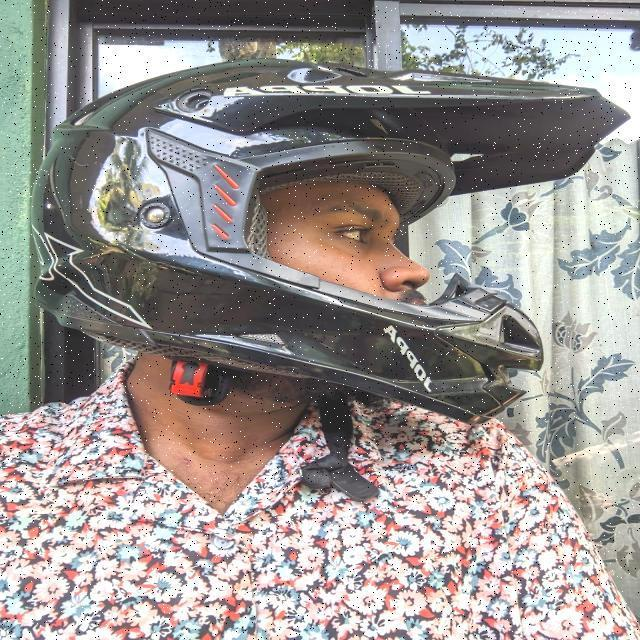helmet: (28, 54, 632, 506)
